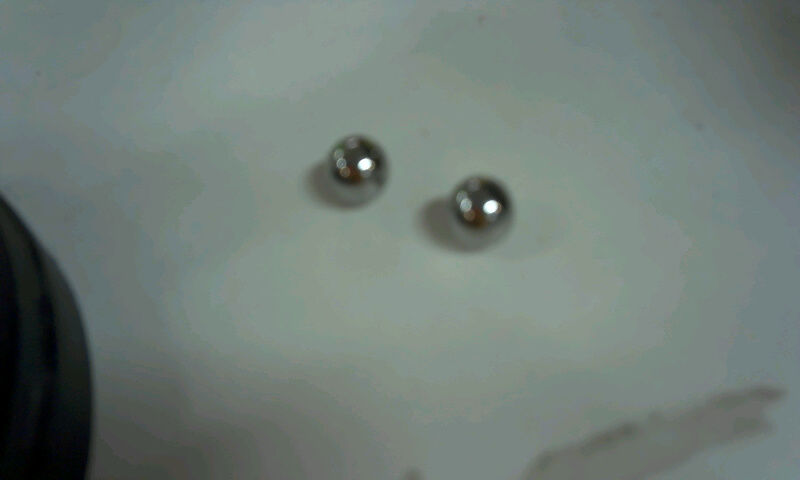steelball: (314, 124, 396, 207), (445, 171, 520, 255)
